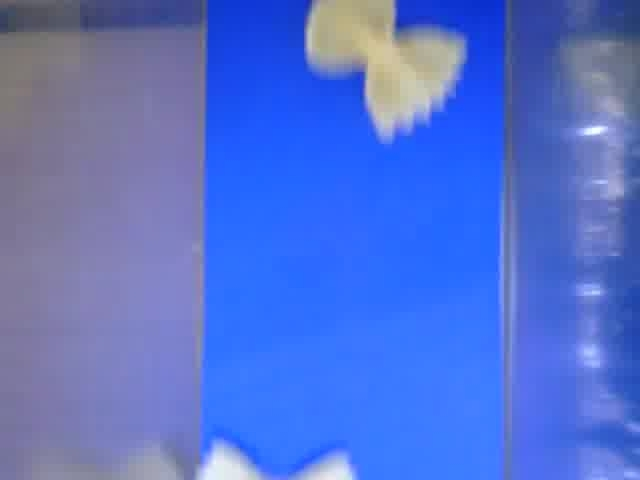farfalle: (307, 1, 469, 144), (197, 432, 354, 480)
